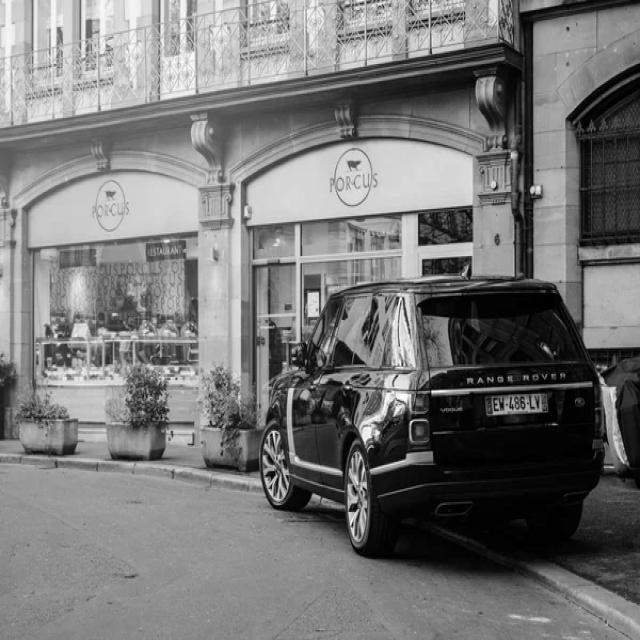Car: (260, 276, 604, 557)
